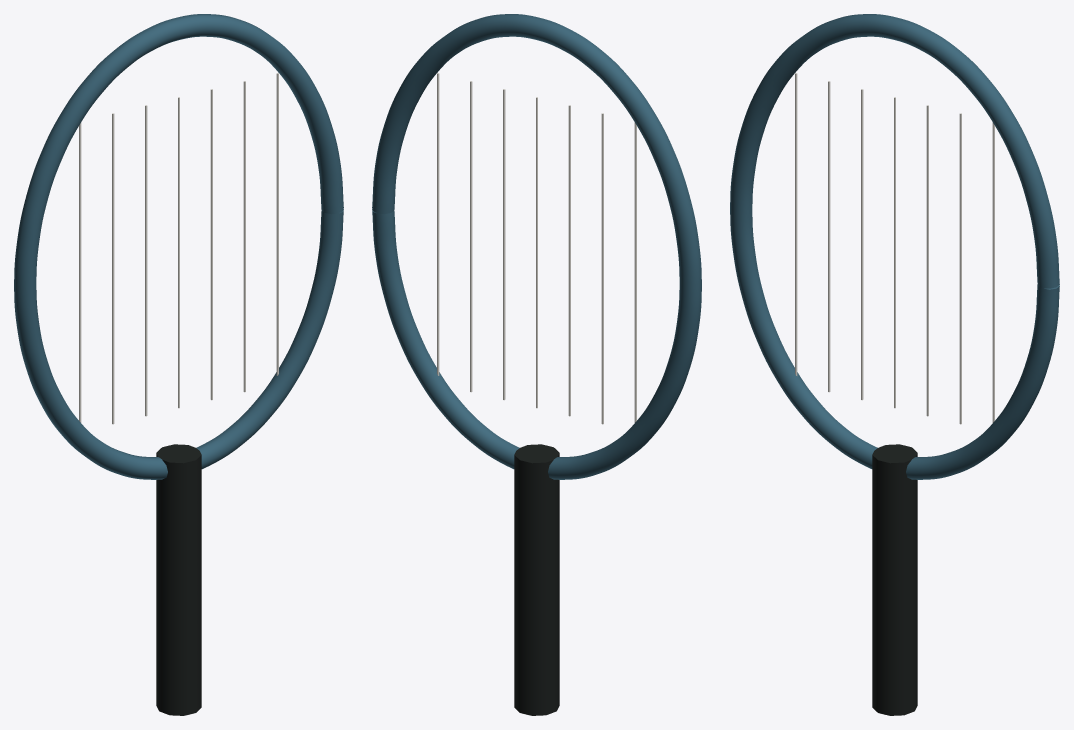
File: sku_racket.glb
3 renders of one model, left to right at view 1: azimuth 30°, elevation 25°; view 2: azimuth 150°, elevation 25°; view 3: azimuth 330°, elevation 25°, orthographic.
Parts seen in each view (by area): view 1: sku_racket_Technical_blue, sku_racket_Grip_rubber, sku_racket_Warm_white_coating; view 2: sku_racket_Technical_blue, sku_racket_Grip_rubber, sku_racket_Warm_white_coating; view 3: sku_racket_Technical_blue, sku_racket_Grip_rubber, sku_racket_Warm_white_coating.
Part boxes in pixels (x1,y1,x2,y2): sku_racket_Technical_blue: [14, 14, 343, 479]; sku_racket_Grip_rubber: [156, 444, 201, 715]; sku_racket_Warm_white_coating: [79, 73, 278, 424]; sku_racket_Technical_blue: [372, 14, 701, 479]; sku_racket_Grip_rubber: [514, 444, 559, 715]; sku_racket_Warm_white_coating: [437, 73, 636, 424]; sku_racket_Technical_blue: [730, 14, 1059, 479]; sku_racket_Grip_rubber: [872, 444, 917, 715]; sku_racket_Warm_white_coating: [795, 73, 994, 424].
Size of the model in its own units: 0.2971 by 0.5986 by 0.0342.
